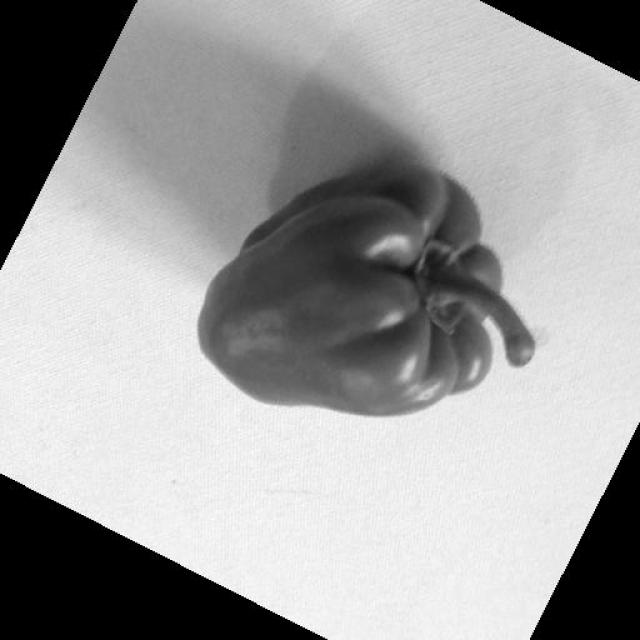Fresh_Capsicum: (188, 176, 514, 396)
